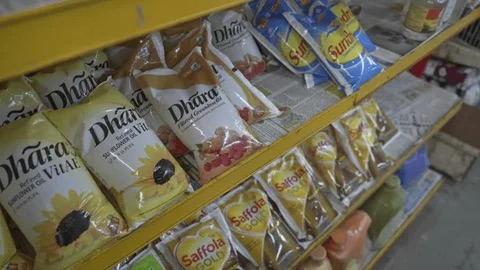saffola: (156, 95, 427, 270)
